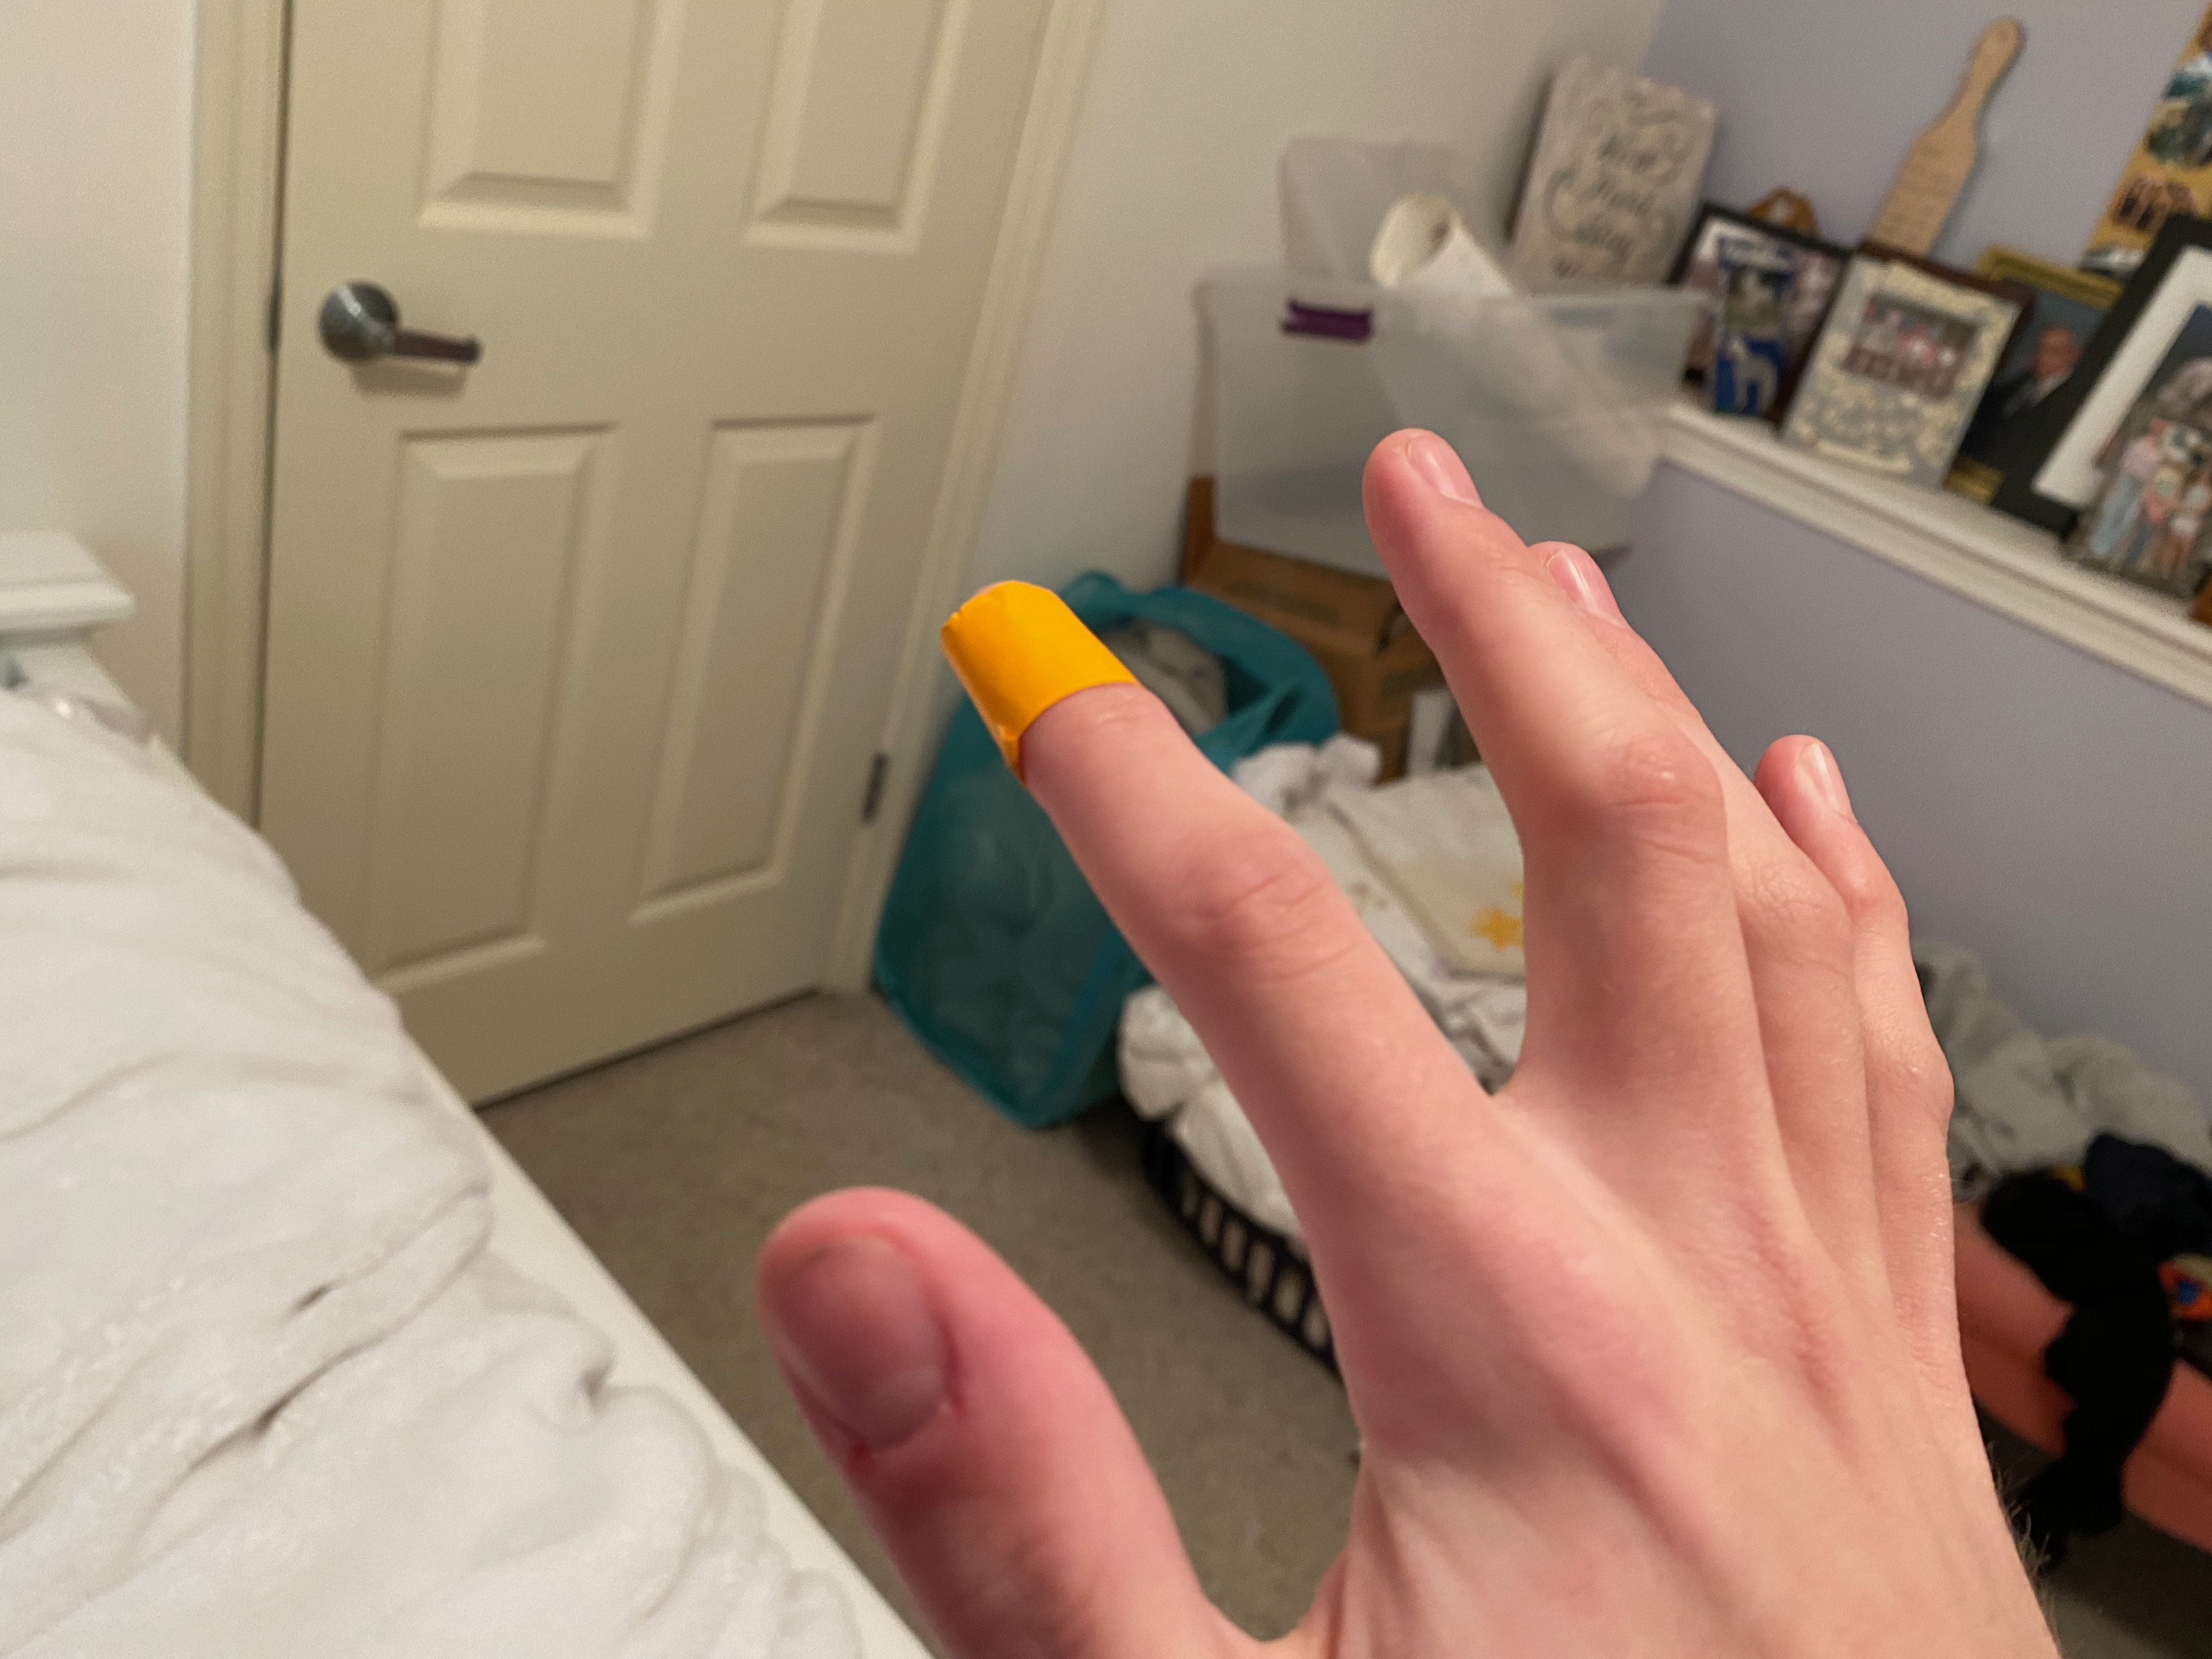fingertip: (921, 566, 1188, 763)
